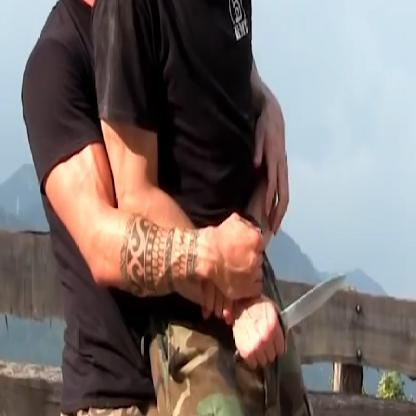knife: (229, 256, 351, 378)
